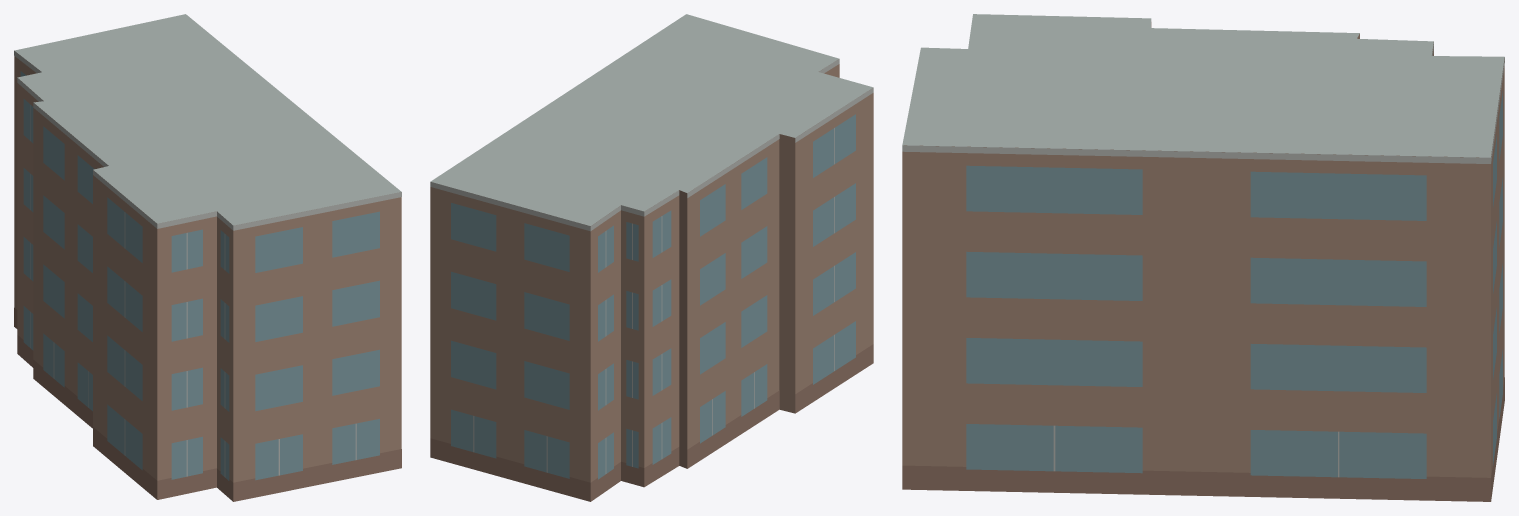
Rendered from survey-upis-32632196.glb.
3 renders of one model, left to right at view 1: azimuth 30°, elevation 25°; view 2: azimuth 150°, elevation 25°; view 3: azimuth 270°, elevation 25°, orthographic. The views are drawn at different scales.
Visible parts, largest first — view 1: survey-upis-32632196.tmp; view 2: survey-upis-32632196.tmp; view 3: survey-upis-32632196.tmp.
Part boxes in pixels (x1,y1,x2,y2): survey-upis-32632196.tmp: (14,14,401,501); survey-upis-32632196.tmp: (430,14,873,501); survey-upis-32632196.tmp: (902,14,1504,501).
Bounding box in the file's own units: 11.7 × 13.06 × 20.73.
